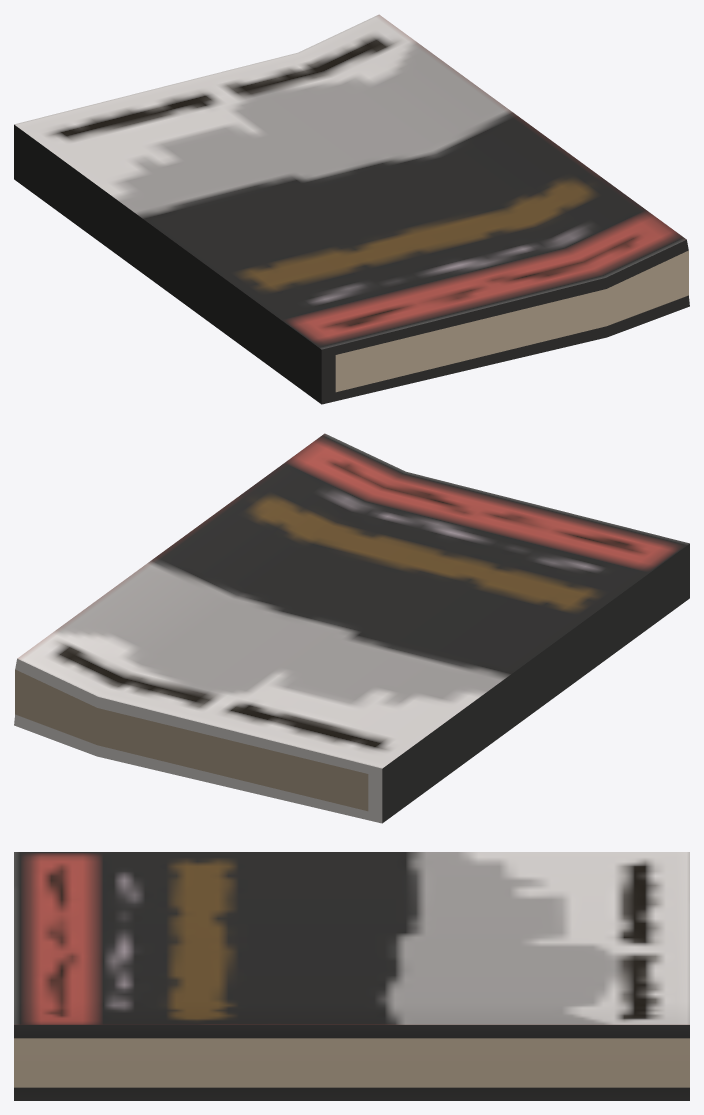
The model's file is SM_Prop_Book_02.fbx.
3 renders of one model, top to bottom at view 1: azimuth 30°, elevation 25°; view 2: azimuth 150°, elevation 25°; view 3: azimuth 270°, elevation 25°, orthographic. The views are drawn at different scales.
Visible parts, largest first — view 1: SM_Prop_Book_02; view 2: SM_Prop_Book_02; view 3: SM_Prop_Book_02.
Boxes of the visible parts, left/top/right/bottom form: SM_Prop_Book_02: left=14, top=14, right=689, bottom=404; SM_Prop_Book_02: left=14, top=433, right=689, bottom=823; SM_Prop_Book_02: left=14, top=852, right=689, bottom=1100.
Bounding box in the file's own units: 31.36 × 6.38 × 45.38.
